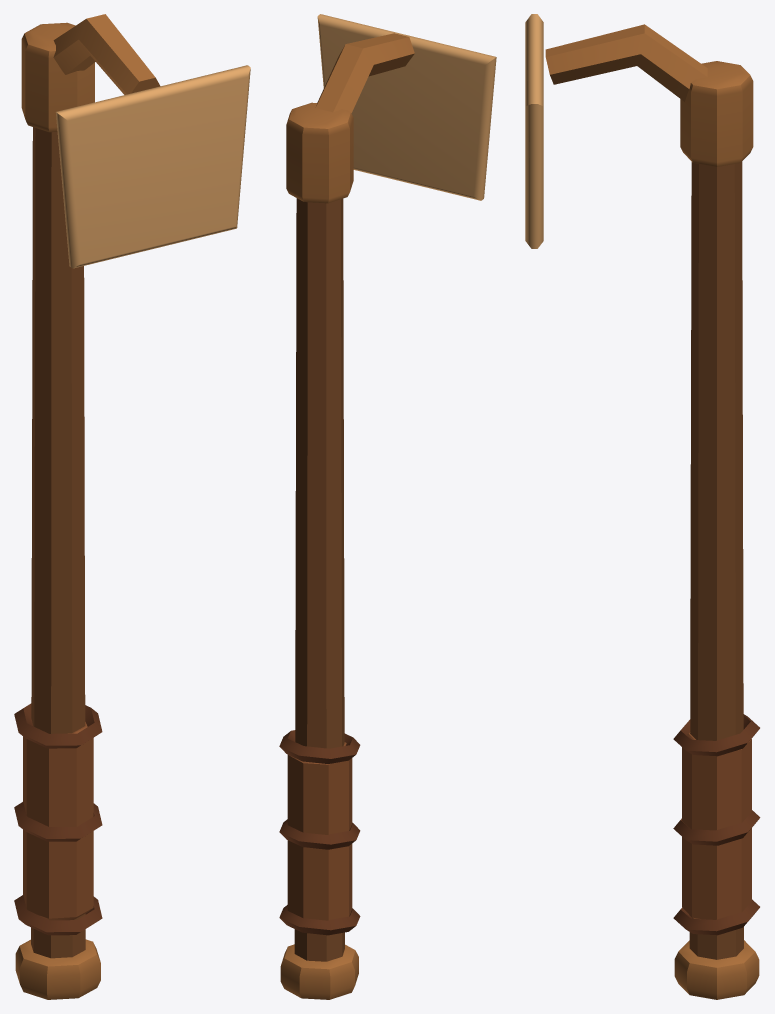
Rendered from WoodHoe.fbx.
The picture shows the model from 3 angles, left to right: view 1: azimuth 30°, elevation 25°; view 2: azimuth 150°, elevation 25°; view 3: azimuth 270°, elevation 25°; orthographic projection. The views are drawn at different scales.
Parts seen in each view (by area): view 1: WoodHoe; view 2: WoodHoe; view 3: WoodHoe.
Boxes of the visible parts, x1,y1,x2,y2 form: WoodHoe: (14, 14, 250, 999); WoodHoe: (279, 14, 496, 999); WoodHoe: (525, 14, 760, 999).
Size of the model in its own units: 0.7 by 3.48 by 0.7736.
1 material, 1 textured.
